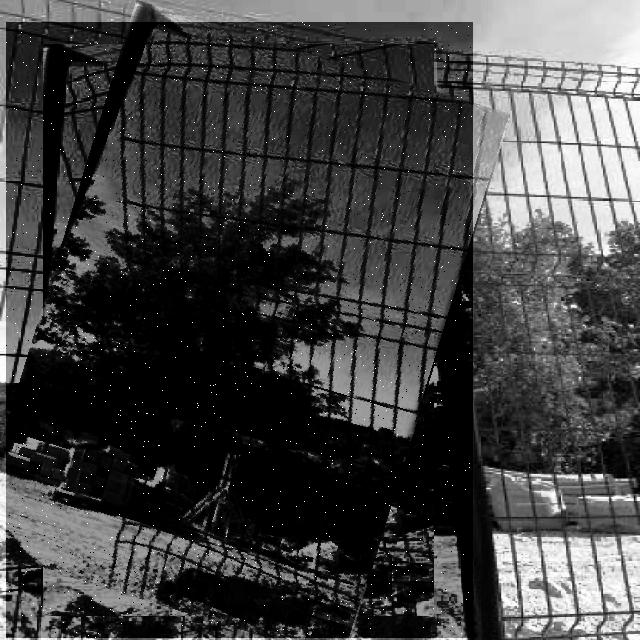anomaly-fence: (6, 22, 473, 638)
